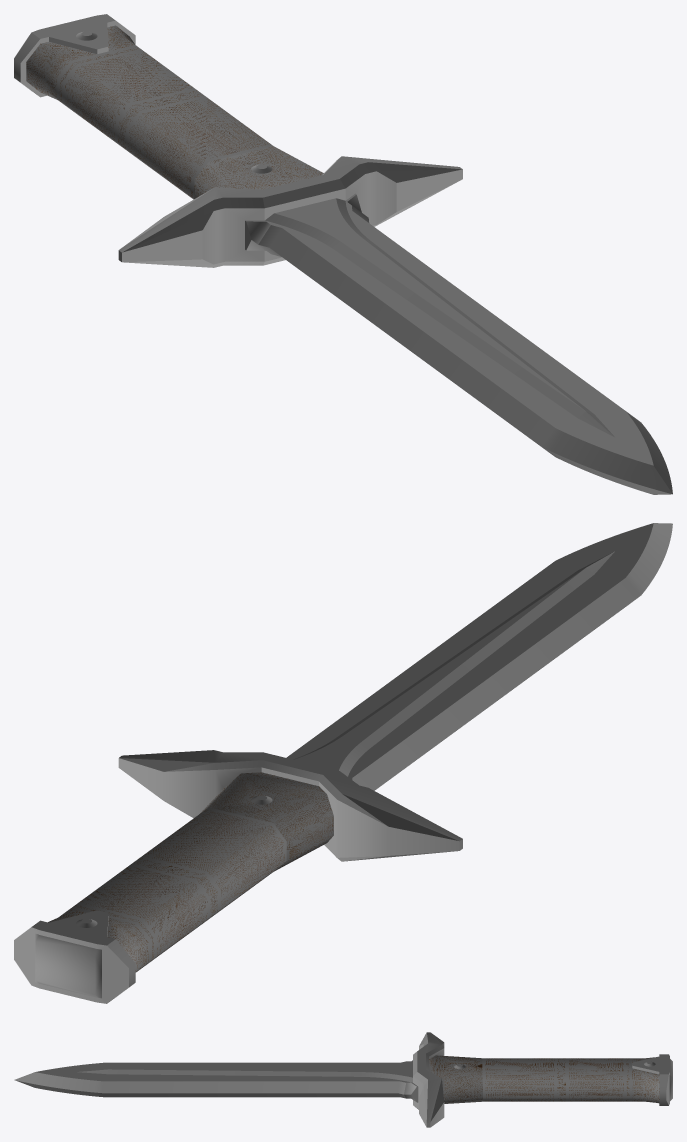
File: model_scale.obj
3 views of the same model, one above another, from view 1: azimuth 30°, elevation 25°; view 2: azimuth 150°, elevation 25°; view 3: azimuth 270°, elevation 25° (orthographic). The views are drawn at different scales.
Visible parts, largest first — view 1: mesh1_mesh1-geometry; view 2: mesh1_mesh1-geometry; view 3: mesh1_mesh1-geometry.
Part boxes in pixels (x1,y1,x2,y2): mesh1_mesh1-geometry: (14,14,672,494); mesh1_mesh1-geometry: (14,523,672,1003); mesh1_mesh1-geometry: (14,1032,672,1127).
Size of the model in its own units: 0.0756 by 0.0144 by 0.2332.
2 materials, 1 textured.
